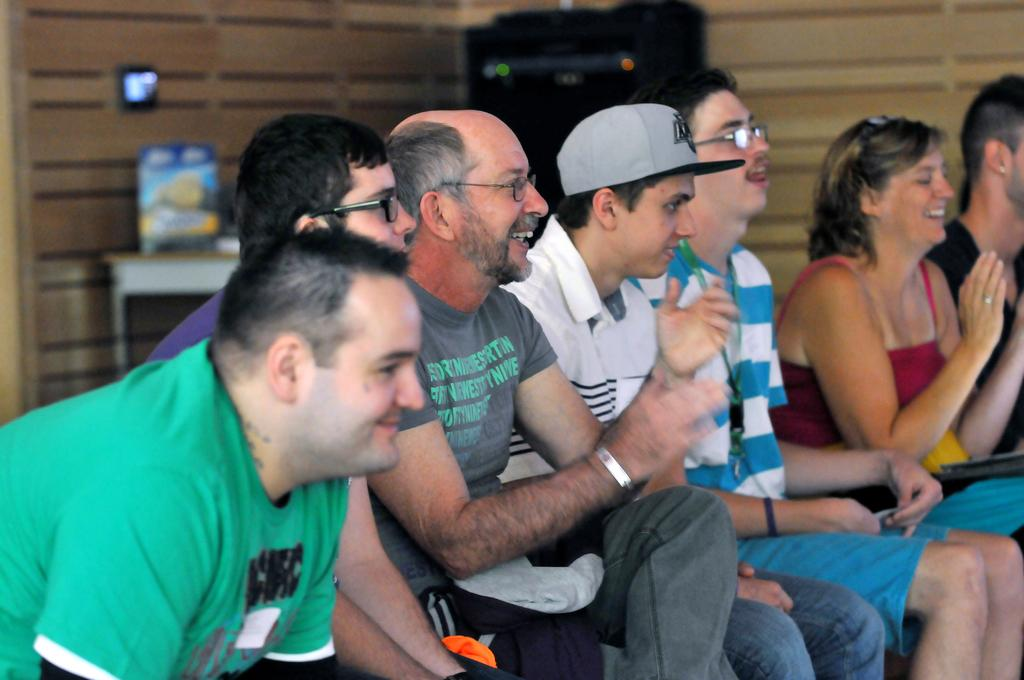Hat: (558, 102, 748, 195)
